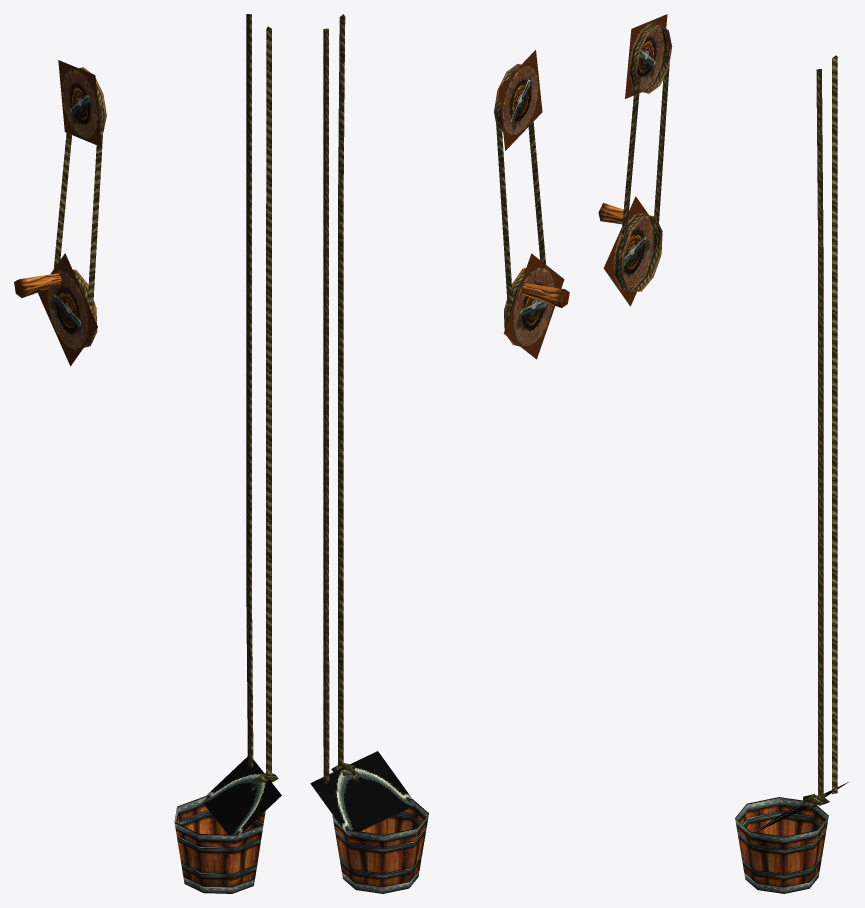
The model's file is PAULSWELLPARTS_ANI.fbx.
3 renders of one model, left to right at view 1: azimuth 30°, elevation 25°; view 2: azimuth 150°, elevation 25°; view 3: azimuth 330°, elevation 25°, orthographic. The views are drawn at different scales.
Parts seen in each view (by area): view 1: PAULSWELLPARTS_ANI; view 2: PAULSWELLPARTS_ANI; view 3: PAULSWELLPARTS_ANI.
Part boxes in pixels (x1,y1,x2,y2): PAULSWELLPARTS_ANI: (14,14,281,893); PAULSWELLPARTS_ANI: (310,14,569,893); PAULSWELLPARTS_ANI: (598,14,849,893).
Size of the model in its own units: 19868 by 65791 by 8517.
Materials: 9 (9 with a texture image).
